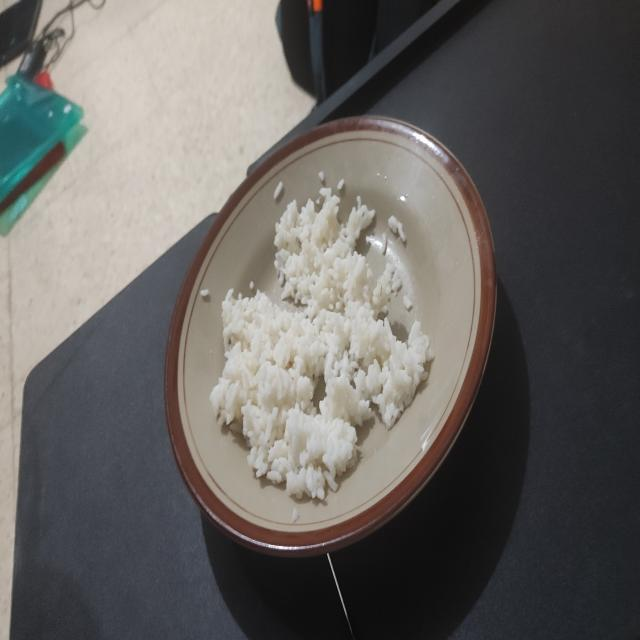nasi_putih: (210, 188, 432, 500)
